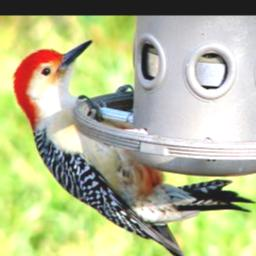Woodpecker: (13, 39, 255, 256)
